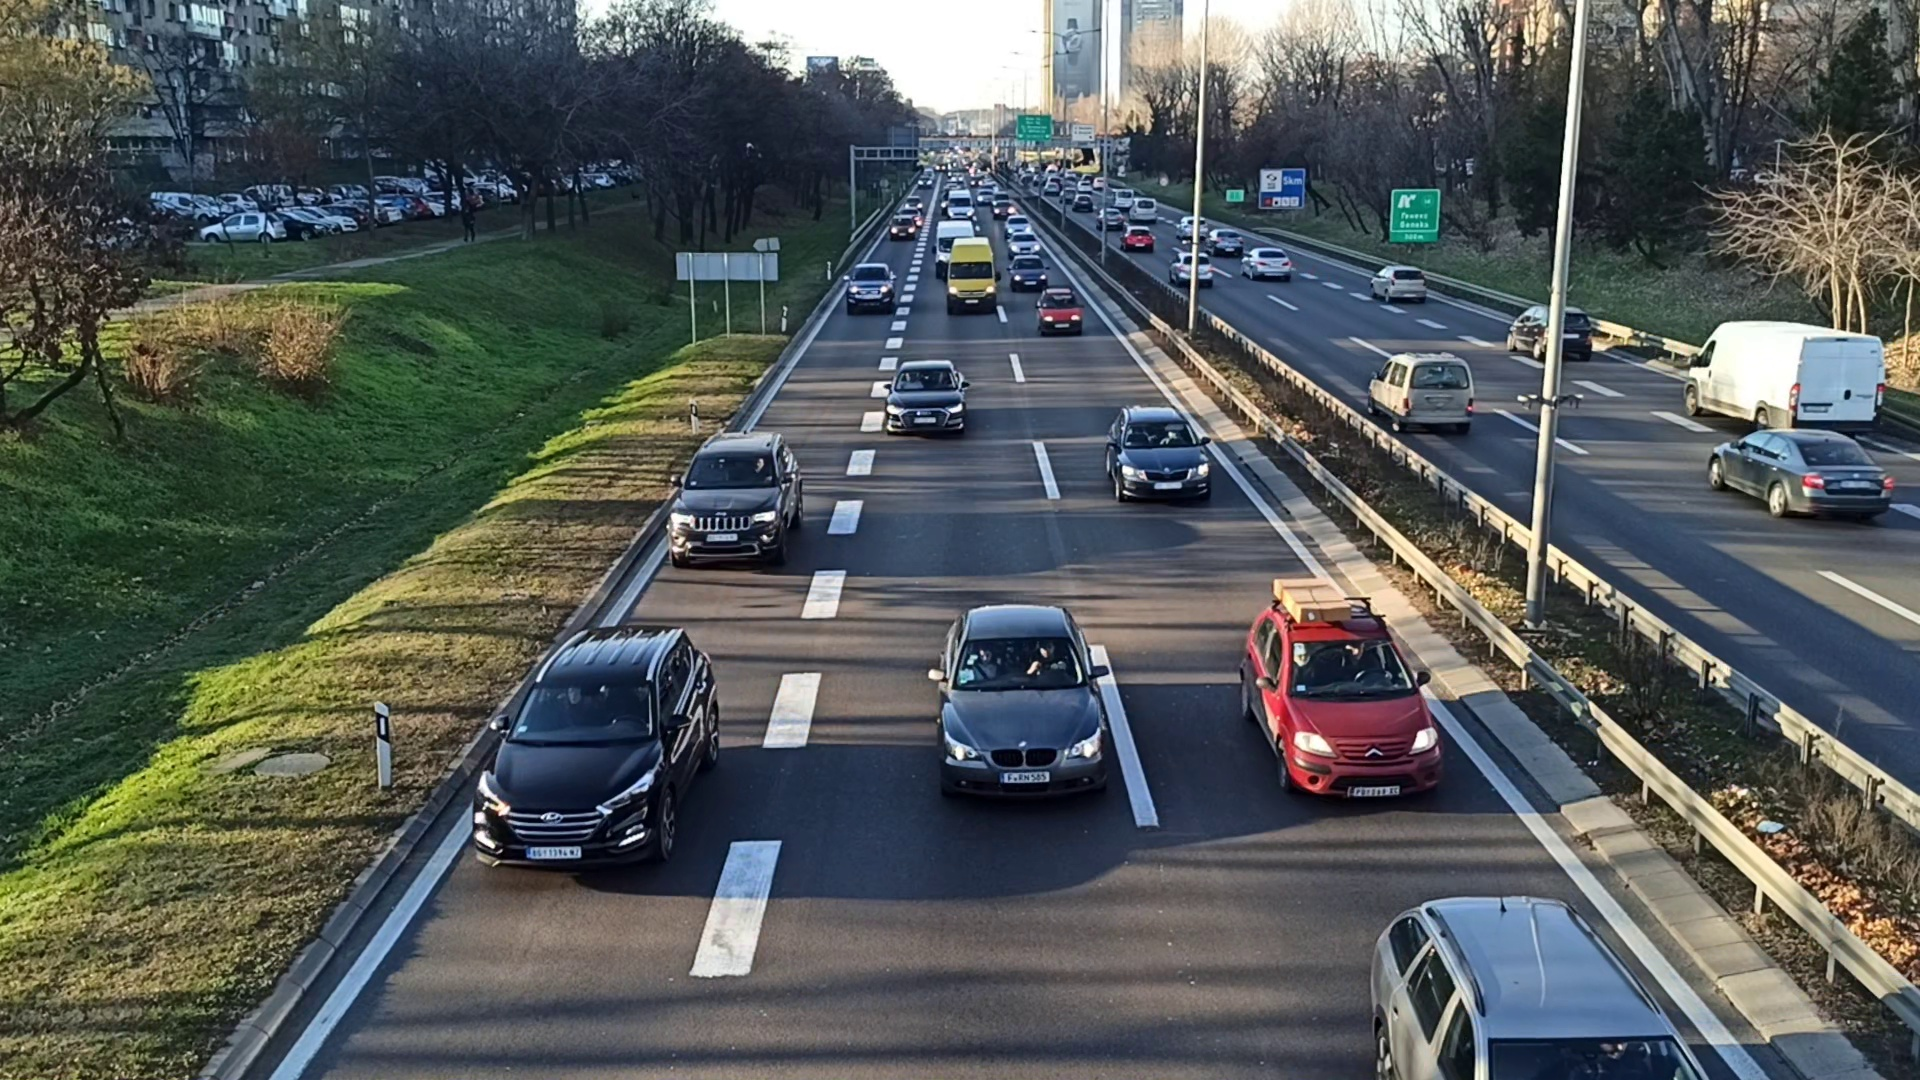car: (469, 622, 721, 872), (1240, 576, 1445, 810), (935, 599, 1108, 804), (669, 433, 804, 566), (1710, 429, 1894, 522), (1102, 405, 1212, 502), (1367, 353, 1476, 433), (889, 363, 968, 434), (843, 260, 895, 311), (1036, 287, 1083, 334), (1010, 256, 1044, 291)
van: (1685, 315, 1884, 439), (945, 236, 993, 313)
